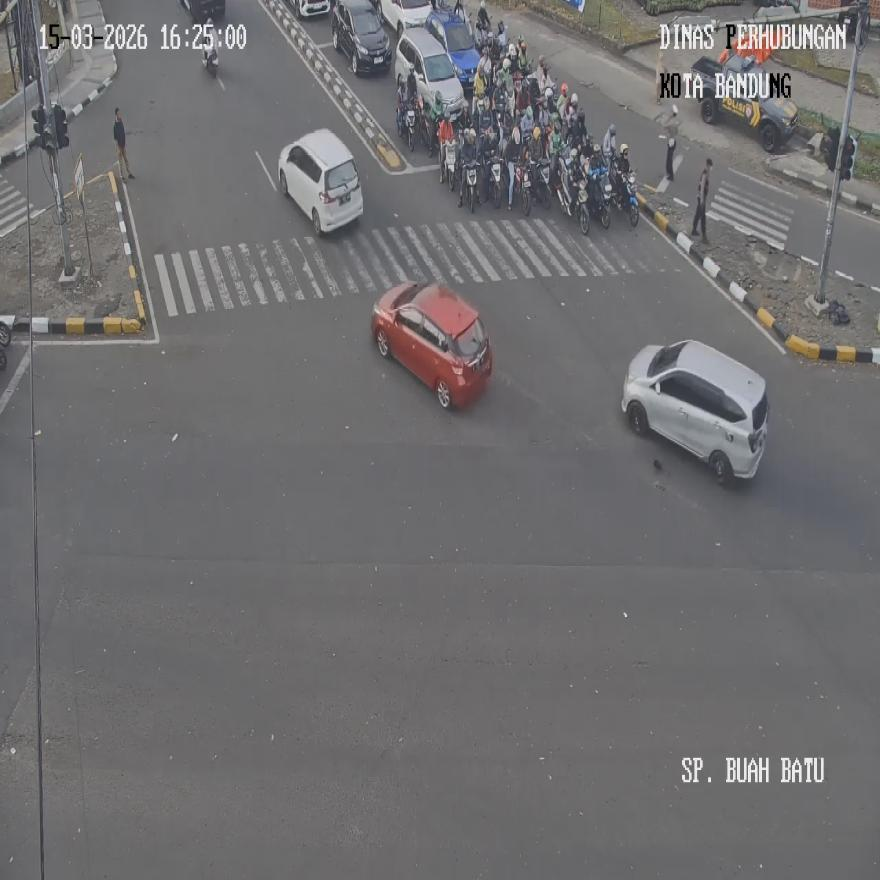Motor: (621, 339, 768, 485), (370, 280, 491, 409), (690, 52, 798, 152), (278, 128, 362, 234), (396, 26, 465, 127), (332, 0, 393, 76)
Truk: (525, 159, 551, 214), (615, 169, 639, 226), (554, 158, 576, 218), (397, 102, 418, 150), (420, 107, 440, 156), (462, 160, 481, 210), (597, 171, 613, 229), (488, 156, 505, 208), (443, 140, 458, 190), (517, 161, 531, 214), (201, 36, 218, 74)
